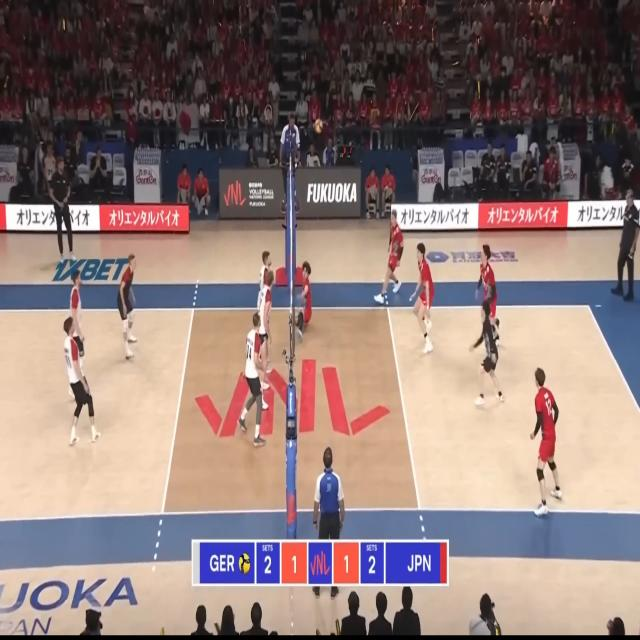ball: (315, 118, 322, 132)
